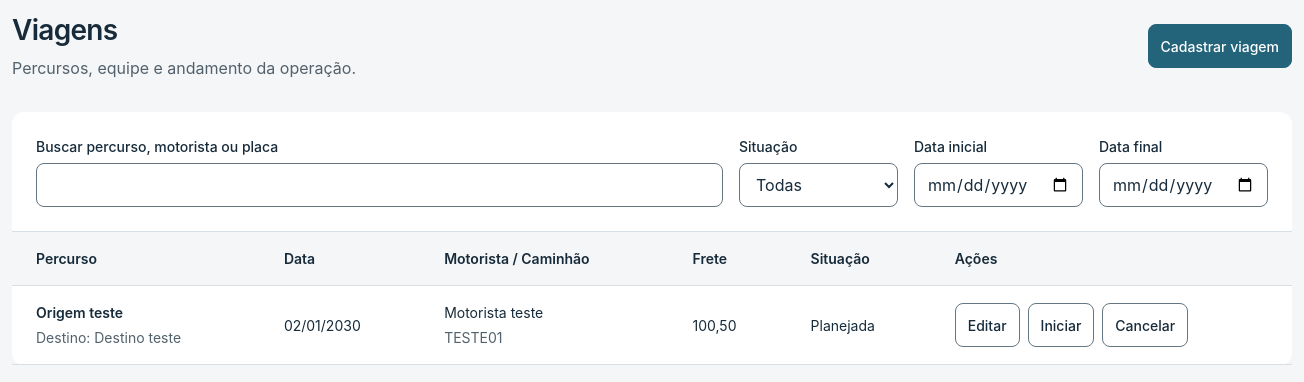
it: bloqueia edicao quando o status consultado ja mudou
The width and height of the screenshot is (1304, 382).
Click the button with aria-label "Editar viagem Origem teste" at (987, 325), box [955,303,1020,347]
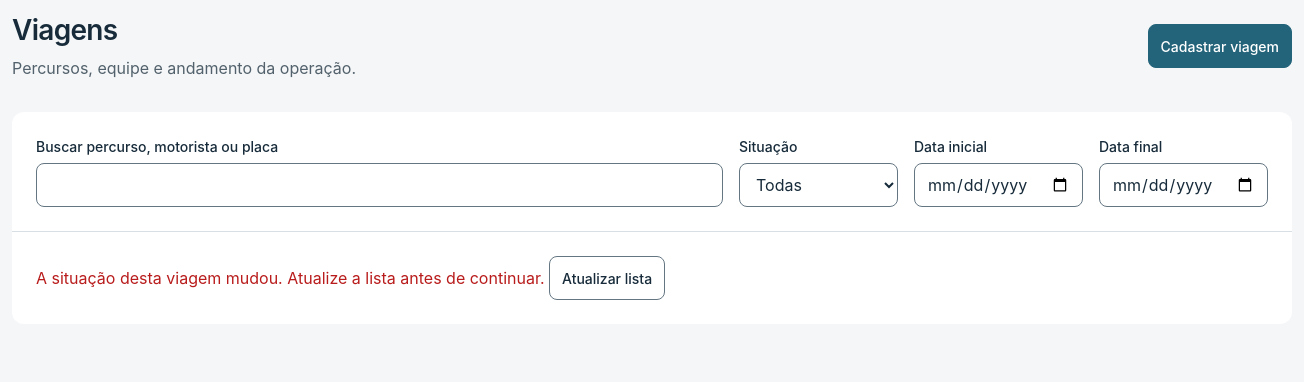
Now the text "A situação desta viagem mudou. Atualize a lista antes de continuar." is shown, box [36,268,544,288]
